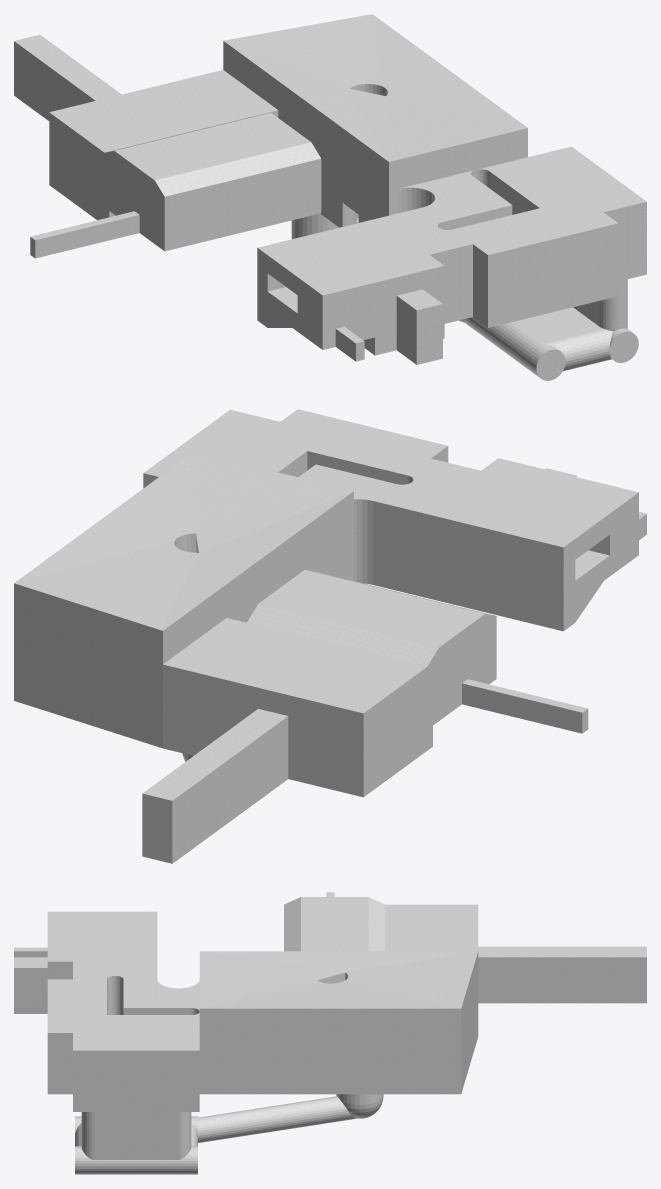
The model's file is Level1.fbx.
3 views of the same model, one above another, from view 1: azimuth 30°, elevation 25°; view 2: azimuth 150°, elevation 25°; view 3: azimuth 270°, elevation 25° (orthographic). The views are drawn at different scales.
Parts seen in each view (by area): view 1: Cube; view 2: Cube; view 3: Cube.
Boxes of the visible parts, left/top/right/bottom form: Cube: left=14, top=14, right=646, bottom=380; Cube: left=14, top=409, right=646, bottom=863; Cube: left=14, top=892, right=646, bottom=1174.
Bounding box in the file's own units: 5300 × 2038 × 7500.
